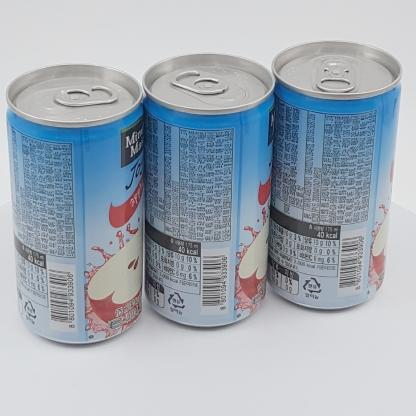-------175ml: (5, 63, 145, 345), (141, 52, 275, 328), (268, 40, 402, 310)
